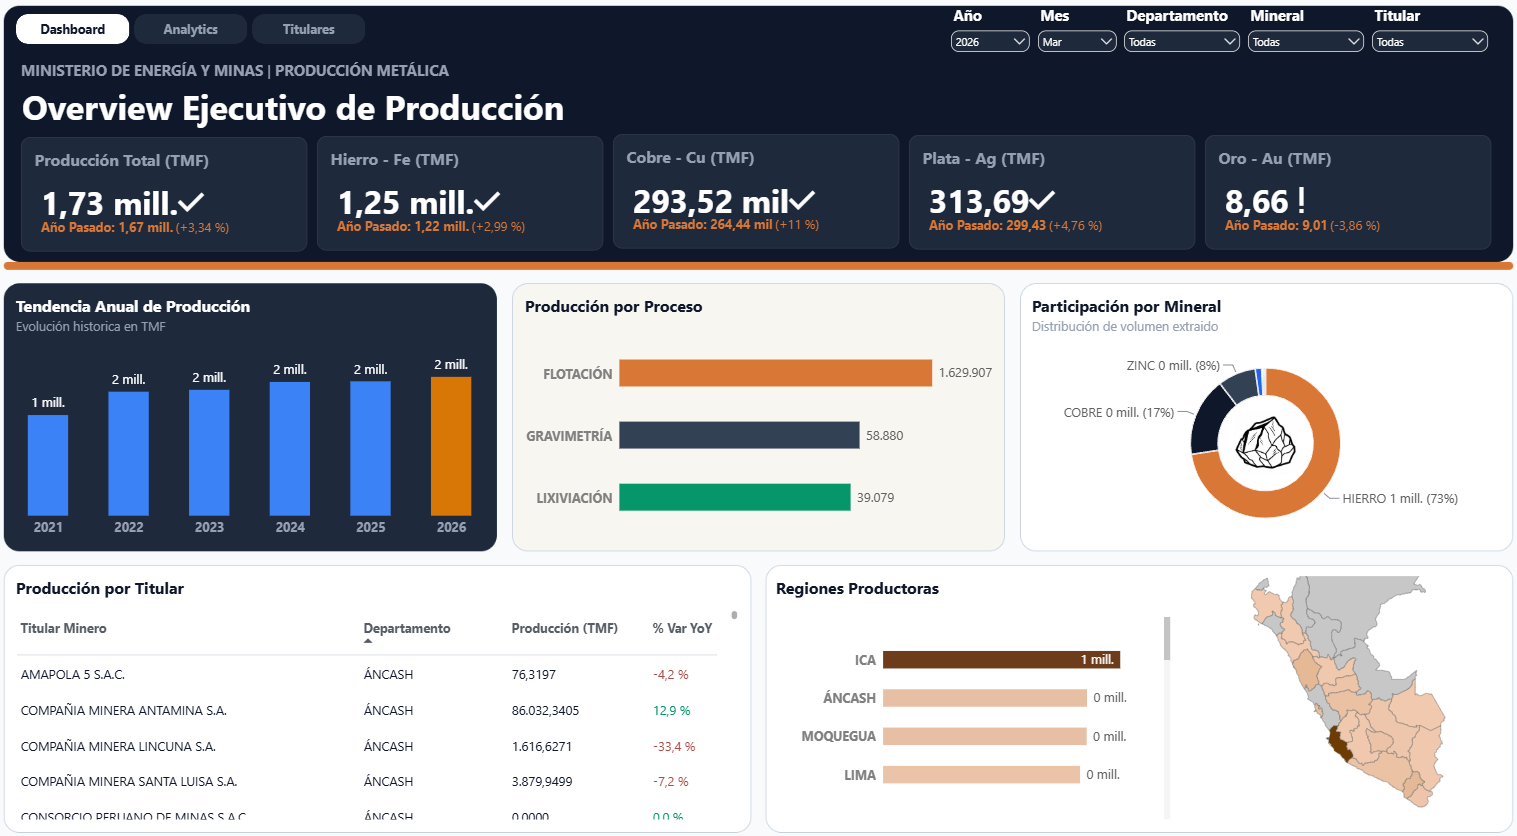

The dashboard page shown, as its layout file describes it:
{"tool":"powerbi","page":{"name":"Dashboard","canvas":[1920,1080],"ordinal":0},"visuals":[{"type":"shapeMap","title":"...","fields":{"Category":["DIM_UBICACION.DEPARTAMENTO"],"Value":["MEDIDAS.Produccion Total"]},"box":[1494.3,718.6,412.9,335.7],"z":0},{"type":"textbox","box":[32.9,84.3,701.4,28.6],"z":1000},{"type":"textbox","box":[34.3,112.9,705.7,64.3],"z":2000},{"type":"kpi","title":"Producción Total (TMF)","fields":{"Goal":["MEDIDAS.Produccion Total LY"],"Indicator":["MEDIDAS.Produccion Total"],"TrendLine":["DIM_TIEMPO.Año"]},"box":[32.9,181.4,360,144],"z":3000},{"type":"clusteredColumnChart","title":"Tendencia Anual de Producción","fields":{"Category":["DIM_TIEMPO.Año","DIM_TIEMPO.Mes Corto"],"Y":["MEDIDAS.Produccion Total"]},"box":[10,364.3,620,338.6],"z":4000},{"type":"clusteredBarChart","title":"Regiones Productoras","fields":{"Category":["DIM_UBICACION.DEPARTAMENTO"],"Y":["MEDIDAS.Produccion Total"]},"box":[965.7,718.6,528,335.7],"z":5000},{"type":"tableEx","title":"Producción por Titular","fields":{"Values":["DIM_EMPRESA.TITULAR","DIM_UBICACION.DEPARTAMENTO","MEDIDAS.Produccion Total","MEDIDAS.% Variación"]},"box":[10,718.6,940,335.7],"z":6000},{"type":"donutChart","title":"Participación por Mineral","fields":{"Category":["DIM_MINERAL.MINERAL"],"Y":["MEDIDAS.Produccion Total"]},"box":[1287.1,364.3,620,338.6],"z":7000},{"type":"clusteredBarChart","title":"Producción por Proceso","fields":{"Category":["DIM_PROCESO.PROCESO"],"Y":["MEDIDAS.Produccion Total"]},"box":[650,364.3,620,338.6],"z":8000},{"type":"kpi","title":"Cobre - Cu (TMF)","fields":{"Goal":["MEDIDAS.Cobre - Cu (TMF) LY"],"Indicator":["MEDIDAS.Cobre - Cu (TMF)"],"TrendLine":["DIM_TIEMPO.Año"]},"box":[777.1,177.1,360,144.3],"z":9000},{"type":"kpi","title":"Plata - Ag (TMF)","fields":{"Goal":["MEDIDAS.Plata - Ag (TMF) LY"],"Indicator":["MEDIDAS.Plata - Ag (TMF)"],"TrendLine":["DIM_TIEMPO.Año"]},"box":[1149.3,178.6,360,144],"z":10000},{"type":"kpi","title":"Oro - Au (TMF)","fields":{"Goal":["MEDIDAS.Oro - Au (TMF) LY"],"Indicator":["MEDIDAS.Oro - Au (TMF)"],"TrendLine":["DIM_TIEMPO.Año"]},"box":[1521.4,178.6,360,144],"z":11000},{"type":"kpi","title":"Hierro - Fe (TMF)","fields":{"Goal":["MEDIDAS.Hierro - Fe (TMF) LY"],"Indicator":["MEDIDAS.Hierro - Fe (TMF)"],"TrendLine":["DIM_TIEMPO.Año"]},"box":[405,180,360,144],"z":12000},{"type":"shape","box":[26.9,26.5,142.6,37.7],"z":13000},{"type":"shape","box":[174.9,26.5,142.6,37.7],"z":14000},{"type":"shape","box":[322.9,26.5,142.6,37.7],"z":15000},{"type":"slicer","fields":{"Values":["DIM_TIEMPO.Año"]},"box":[1197.1,15.7,108.6,60],"z":16000},{"type":"slicer","fields":{"Values":["DIM_TIEMPO.Mes Corto"]},"box":[1305.7,15.7,108.6,60],"z":17000},{"type":"slicer","fields":{"Values":["DIM_UBICACION.DEPARTAMENTO"]},"box":[1414.3,15.7,155.7,60],"z":18000},{"type":"slicer","fields":{"Values":["DIM_MINERAL.MINERAL"]},"box":[1570,15.7,155.7,60],"z":19000},{"type":"slicer","fields":{"Values":["DIM_EMPRESA.TITULAR"]},"box":[1725.7,15.7,155.7,60],"z":20000}]}

Visuals, with their boxes in screenshot pixels (x1, y1, x2, y2), scaled from the page's 1920x1080 canvas onto the 1517x836 screenshot:
"..." shapeMap: box=[1181, 556, 1507, 816]
textbox: box=[26, 65, 580, 87]
textbox: box=[27, 87, 585, 137]
"Producción Total (TMF)" kpi: box=[26, 140, 310, 252]
"Tendencia Anual de Producción" clusteredColumnChart: box=[8, 282, 498, 544]
"Regiones Productoras" clusteredBarChart: box=[763, 556, 1180, 816]
"Producción por Titular" tableEx: box=[8, 556, 751, 816]
"Participación por Mineral" donutChart: box=[1017, 282, 1507, 544]
"Producción por Proceso" clusteredBarChart: box=[514, 282, 1003, 544]
"Cobre - Cu (TMF)" kpi: box=[614, 137, 898, 249]
"Plata - Ag (TMF)" kpi: box=[908, 138, 1193, 250]
"Oro - Au (TMF)" kpi: box=[1202, 138, 1487, 250]
"Hierro - Fe (TMF)" kpi: box=[320, 139, 604, 251]
shape: box=[21, 21, 134, 50]
shape: box=[138, 21, 251, 50]
shape: box=[255, 21, 368, 50]
slicer - DIM_TIEMPO.Año: box=[946, 12, 1032, 59]
slicer - DIM_TIEMPO.Mes Corto: box=[1032, 12, 1117, 59]
slicer - DIM_UBICACION.DEPARTAMENTO: box=[1117, 12, 1240, 59]
slicer - DIM_MINERAL.MINERAL: box=[1240, 12, 1363, 59]
slicer - DIM_EMPRESA.TITULAR: box=[1363, 12, 1487, 59]
